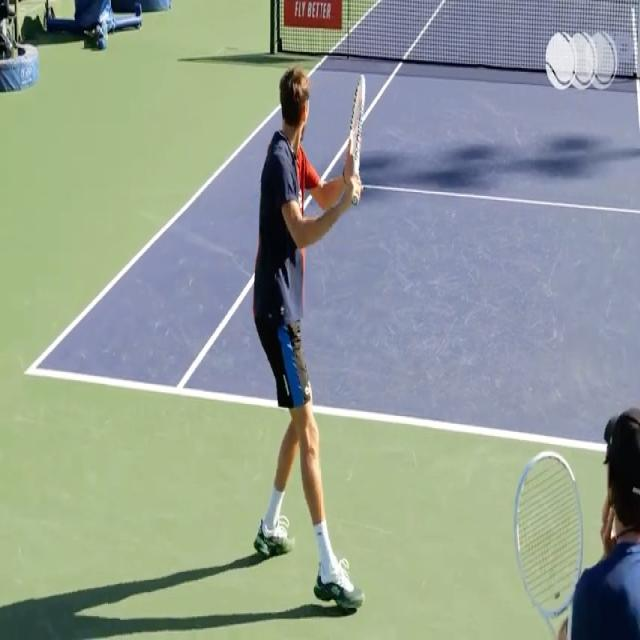forehand-ready: (256, 68, 378, 602)
